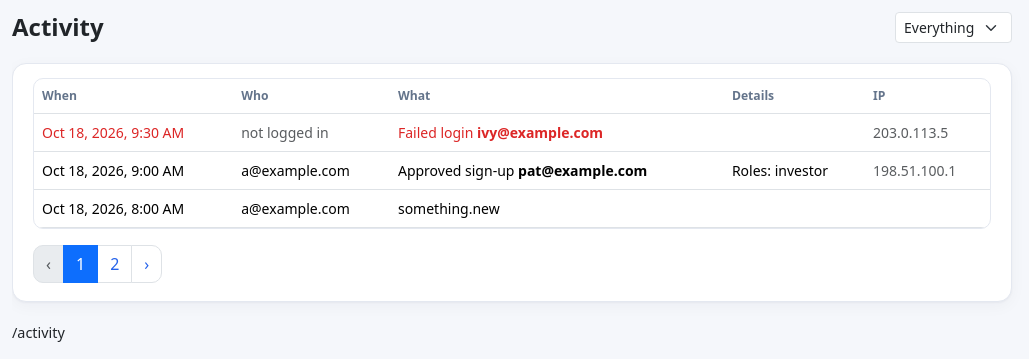
Activity › filters by type and pages
Check: the text "Failed login" is shown, box 398,123 -> 473,142
Select "Logins" in the dropdown named "Show": (954,28) 895,12 -> 1012,43
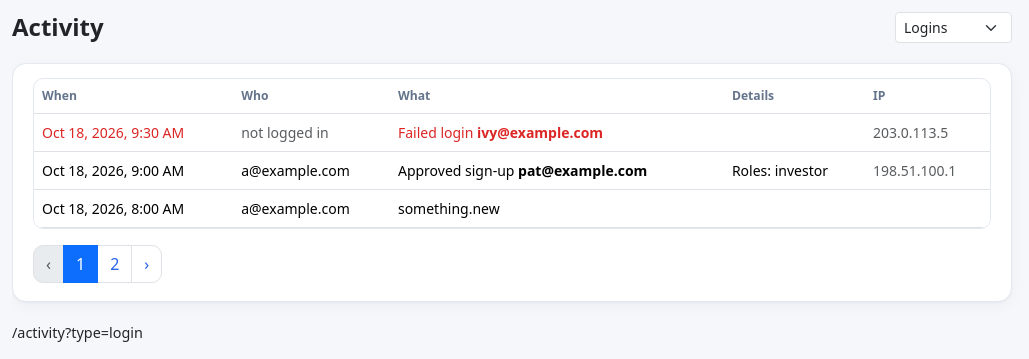
Check: the text with test id "location" reads "/activity?type=login", box 12,323 -> 143,342
Click the button "2": (115,264) 97,245 -> 132,283
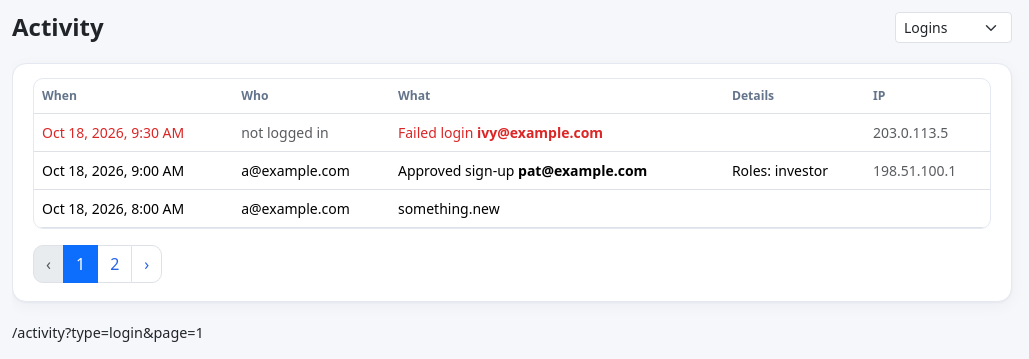
Check: the text with test id "location" reads "/activity?type=login&page=1", box 12,323 -> 204,342
